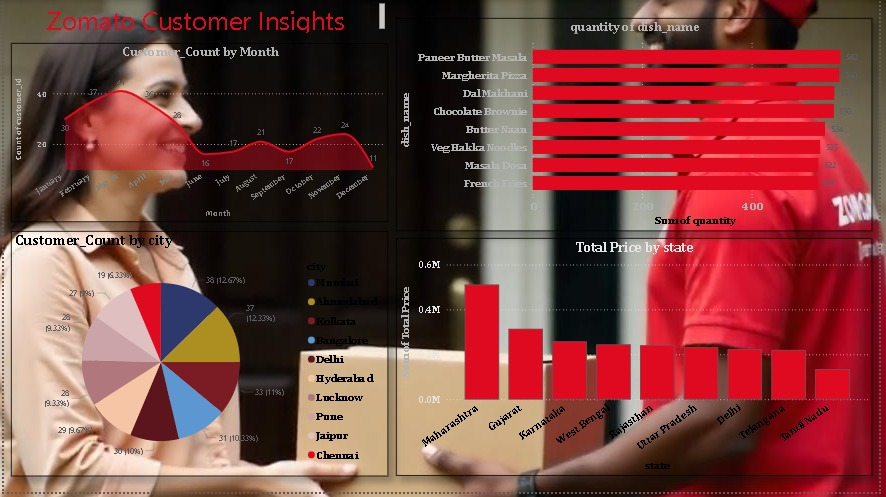

Layout of this report page (visuals, bound fields, positions):
{"tool":"powerbi","page":{"name":"Page 3","canvas":[1280,720],"ordinal":2},"visuals":[{"type":"textbox","box":[9.9,0,1270.4,52.1],"z":0},{"type":"areaChart","fields":{"Category":["zomato_customers.signup_date.Variation.Date Hierarchy.Month"],"Y":["CountNonNull(zomato_customers.customer_id)"]},"box":[9.9,52.1,552.1,273.2],"z":1000},{"type":"pieChart","fields":{"Category":["zomato_customers.city"],"Y":["CountNonNull(zomato_customers.customer_id)"]},"box":[9.9,325.4,552.1,371.8],"z":2000},{"type":"clusteredBarChart","fields":{"Category":["zomato_orders_item.dish_name"],"Y":["Sum(zomato_orders_item.quantity)"]},"box":[562,52.1,718.3,308.5],"z":3000},{"type":"clusteredColumnChart","fields":{"Category":["zomato_customers.state"],"Y":["Sum(zomato_orders_item.Total Price)"]},"box":[562,360.6,718.3,336.6],"z":4000}]}

Visuals, with their boxes in screenshot pixels (x1, y1, x2, y2), scaled from the page's 1280x720 canvas onto the 886x497 screenshot:
textbox: detection(7, 0, 885, 36)
areaChart - zomato_customers.signup_date.Variation.Date Hierarchy.Month x CountNonNull(zomato_customers.customer_id): detection(7, 36, 389, 225)
pieChart - zomato_customers.city x CountNonNull(zomato_customers.customer_id): detection(7, 225, 389, 481)
clusteredBarChart - zomato_orders_item.dish_name x Sum(zomato_orders_item.quantity): detection(389, 36, 885, 249)
clusteredColumnChart - zomato_customers.state x Sum(zomato_orders_item.Total Price): detection(389, 249, 885, 481)
